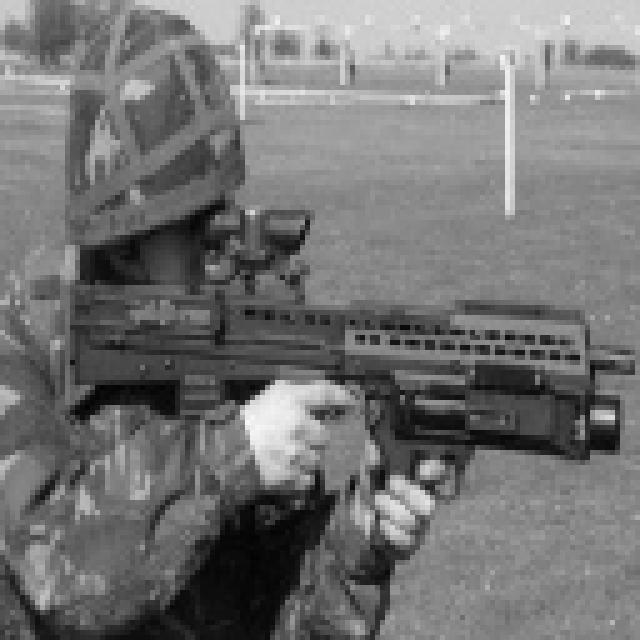Rifle: (48, 212, 640, 534)
